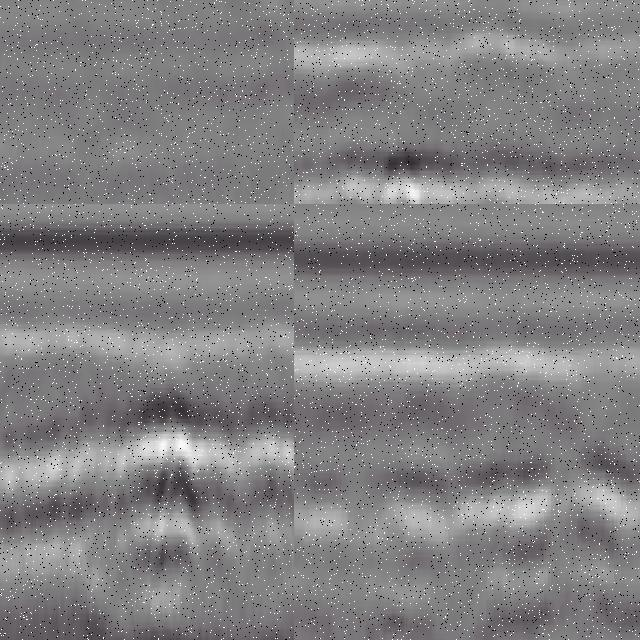loose: (1, 386, 295, 608)
